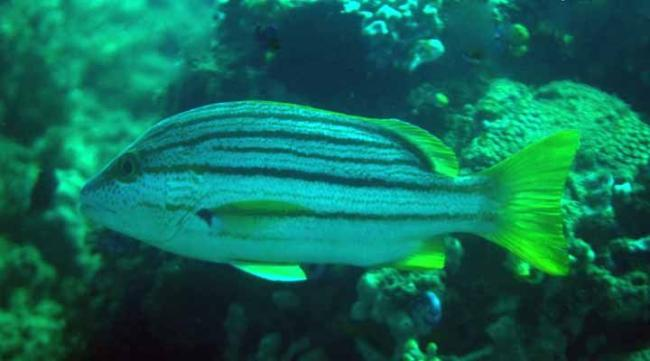fish: (79, 99, 581, 283)
